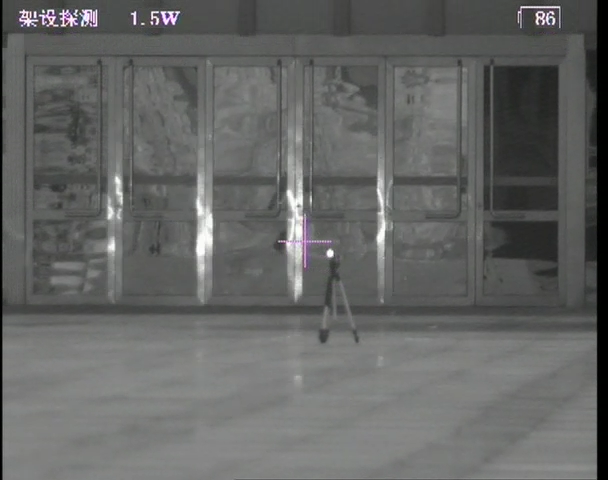my: (326, 249, 336, 260)
